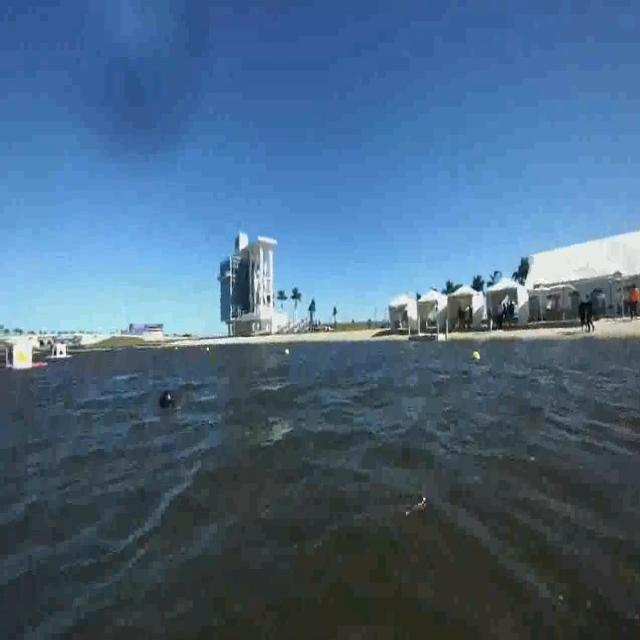black-buoy: (157, 388, 176, 412)
